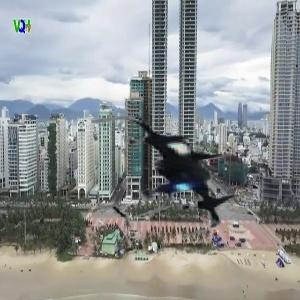drone: (100, 101, 241, 242)
